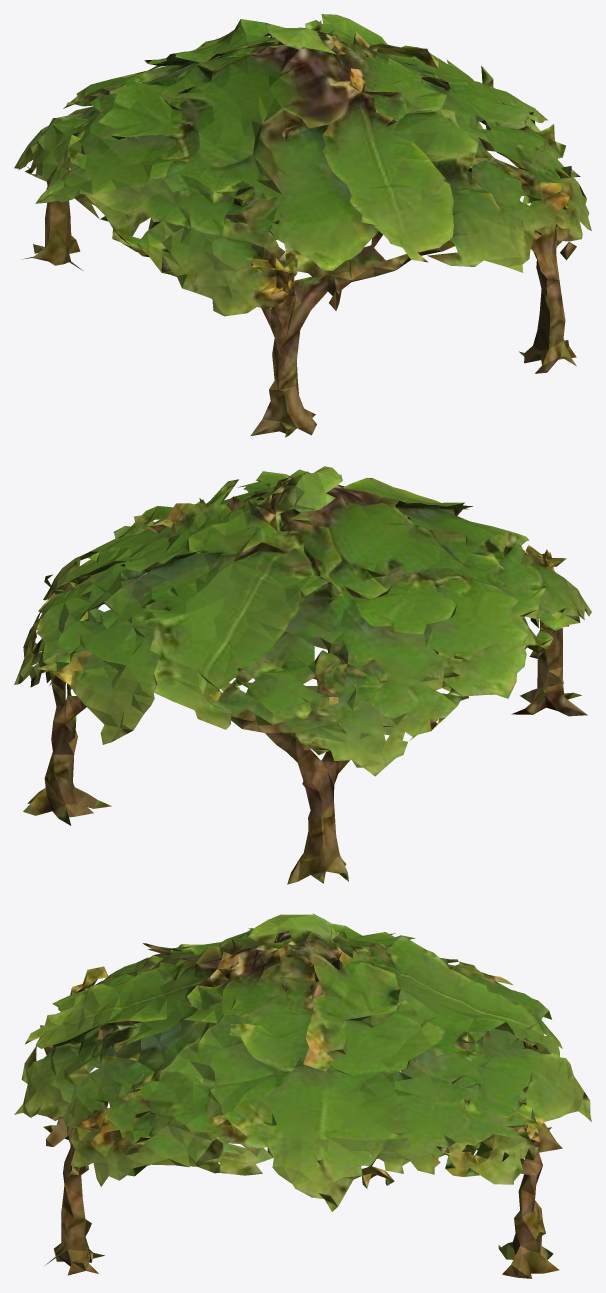
Rendered from fairy_leaf_canopy_1117.glb.
The picture shows the model from 3 angles, top to bottom: view 1: azimuth 30°, elevation 25°; view 2: azimuth 150°, elevation 25°; view 3: azimuth 270°, elevation 25°; orthographic projection.
Visible parts, largest first — view 1: geometry_0; view 2: geometry_0; view 3: geometry_0.
Part boxes in pixels (left/top/right/bottom): geometry_0: left=14, top=14, right=591, bottom=437; geometry_0: left=14, top=466, right=591, bottom=884; geometry_0: left=14, top=913, right=591, bottom=1278.
Bounding box in the file's own units: 1.76 × 1 × 1.85.
1 material, 1 textured.
